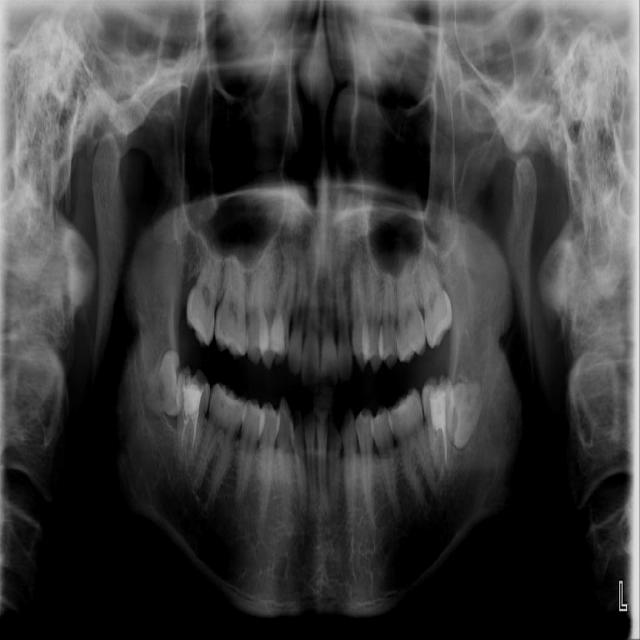Filling: (176, 365, 210, 413), (421, 375, 455, 422)
Root Canal Treatment: (182, 412, 188, 446), (443, 431, 448, 462), (194, 419, 198, 446), (434, 442, 438, 446), (436, 446, 438, 452)
impacted tooth: (418, 242, 453, 345), (140, 351, 179, 416), (454, 378, 482, 448)
